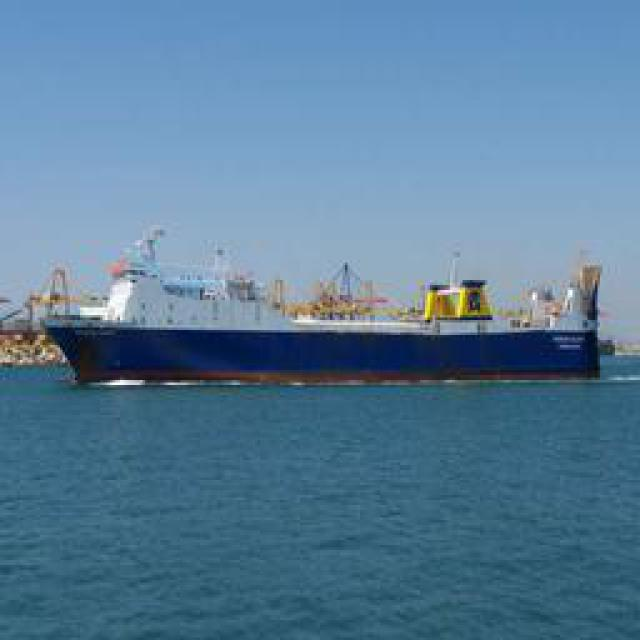Ship: (29, 227, 609, 387)
